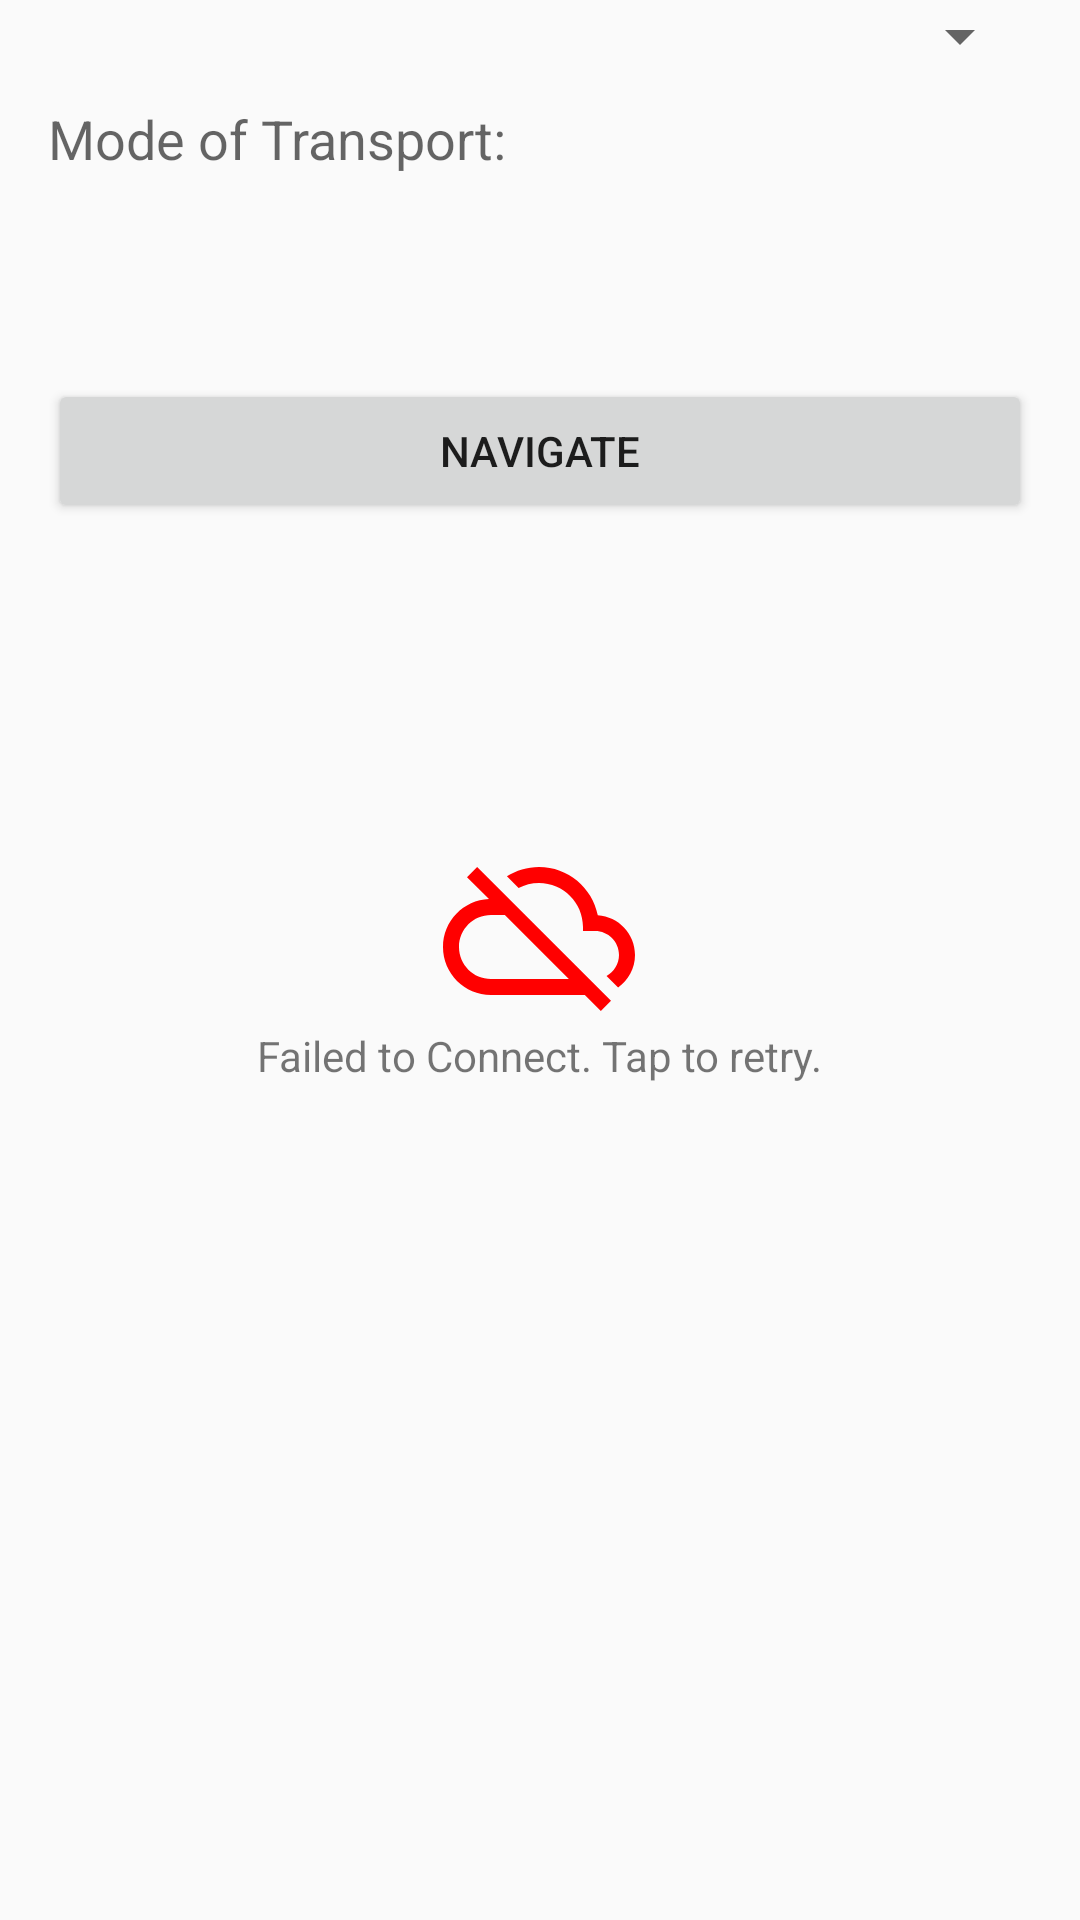

Locate icon controls on the screen. Image size 1080 × 1920, boxes as bbox=(x1, y1, x2, y2).
no network: bbox=(443, 867, 635, 1011)
